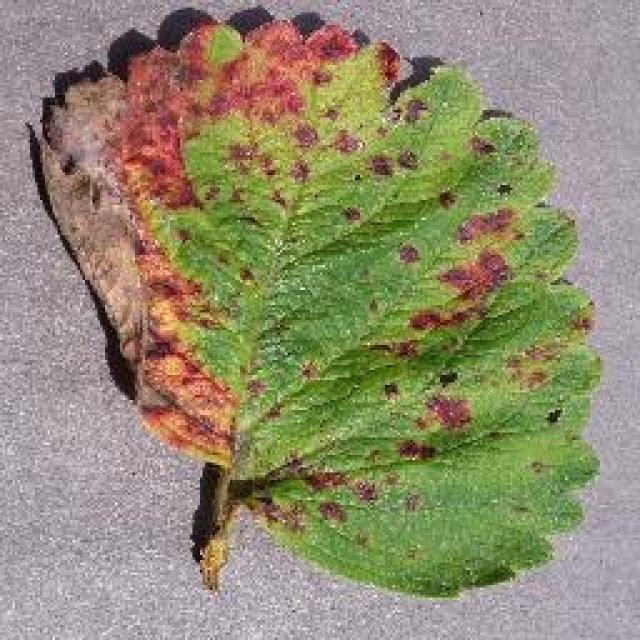Strawberry leaf scorch: (78, 79, 507, 434)
